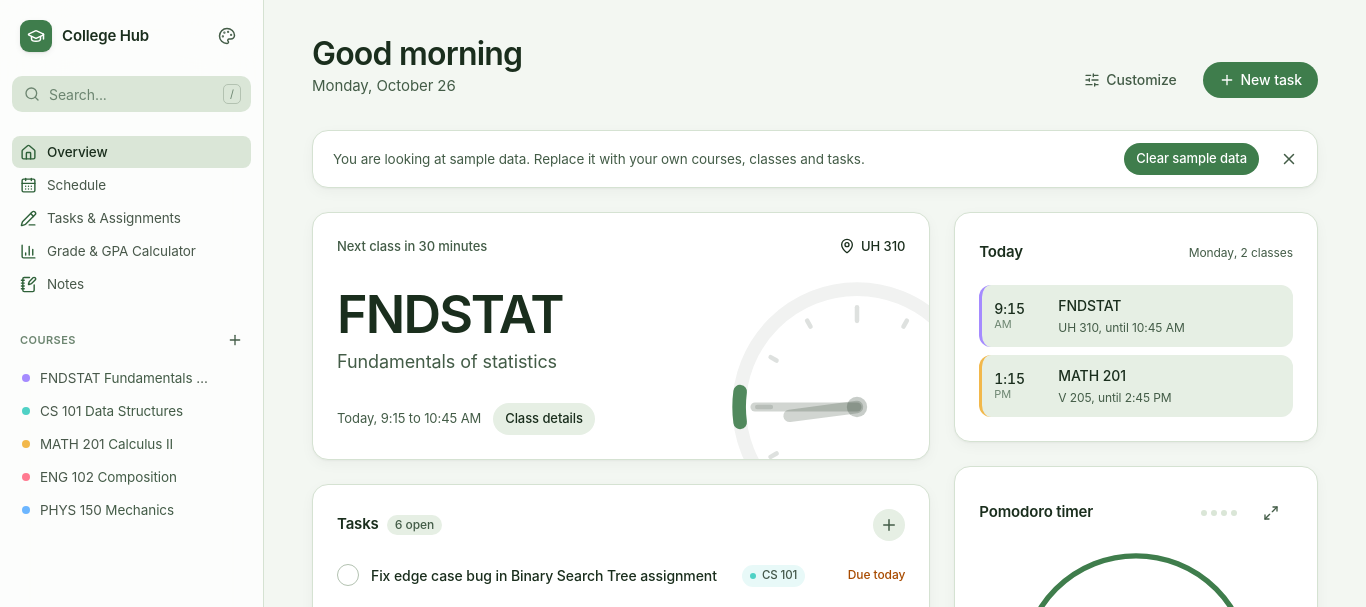
Test: Navigation and search › finds a task from search and jumps to it
Type "binary" into the dropdown.
click(132, 94); type("binary")  # box [12,76,251,112]
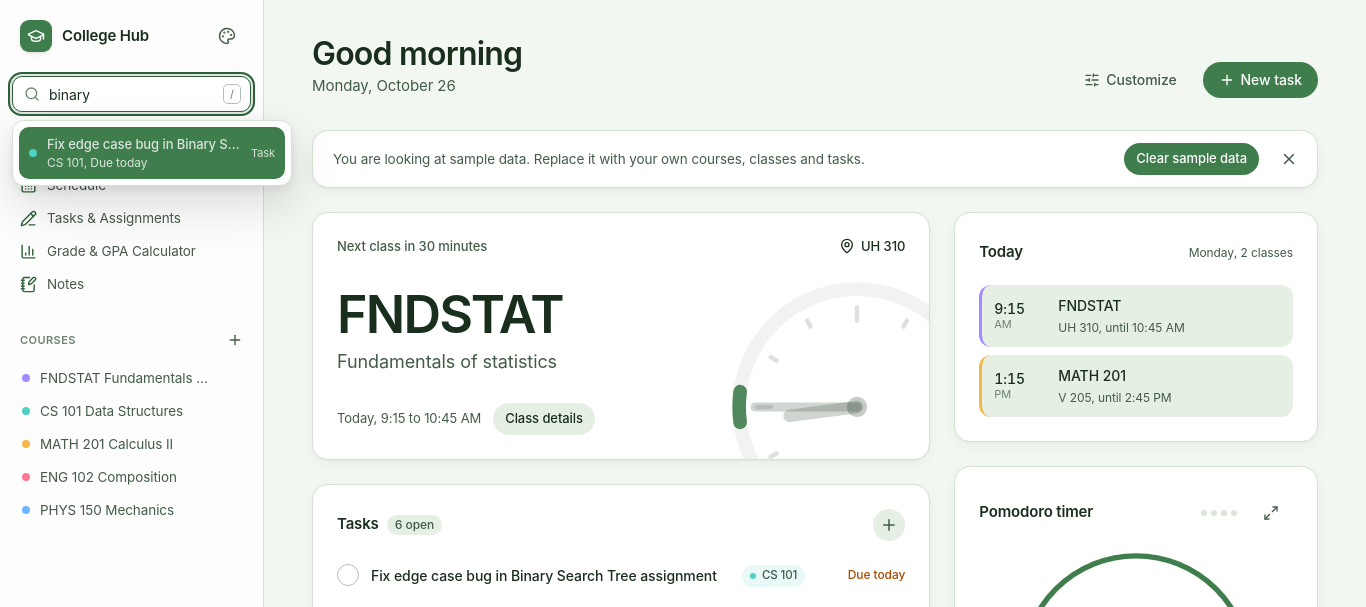
Click the option "Binary Search Tree".
click(152, 153)  # box [19,127,285,178]
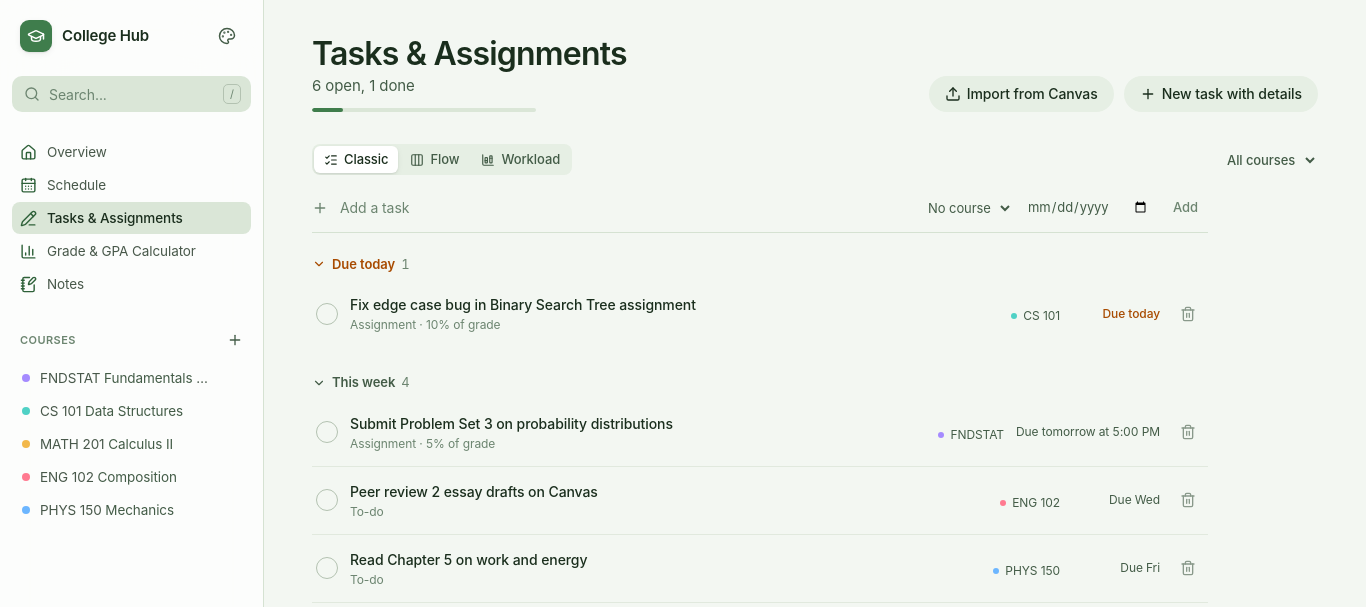
Check: the heading "Tasks & Assignments" is shown, box [312,36,627,71]
